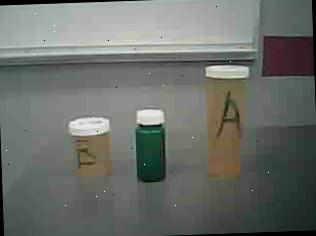Bottle A: (198, 55, 263, 186)
Bottle B: (69, 110, 118, 181)
Bottle C: (128, 102, 188, 196)
